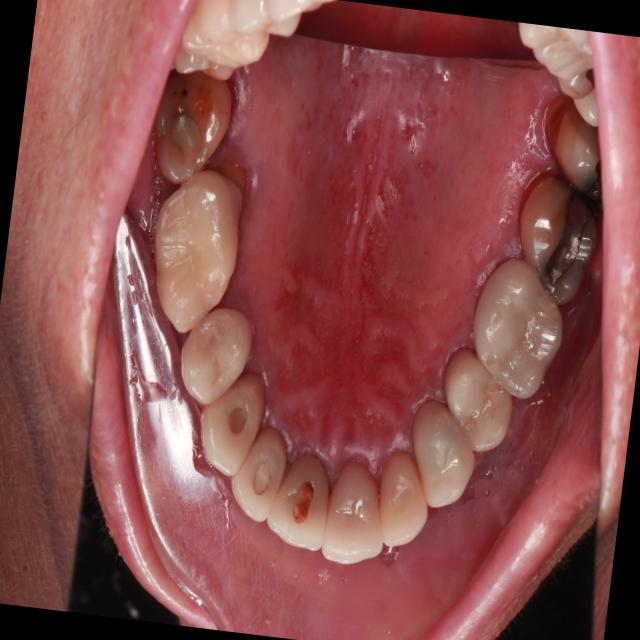tooth: (136, 162, 262, 346), (456, 239, 572, 413), (495, 158, 612, 315), (391, 377, 497, 529), (142, 62, 250, 204), (161, 288, 269, 426), (423, 334, 528, 467), (187, 346, 274, 501), (259, 430, 344, 580), (312, 448, 398, 576), (224, 403, 300, 545), (530, 85, 618, 207), (365, 436, 444, 567)
